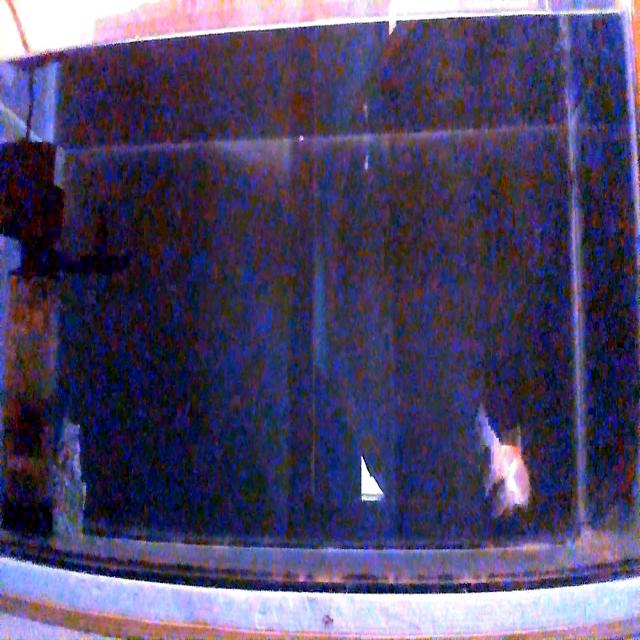fish: (474, 402, 533, 520)
